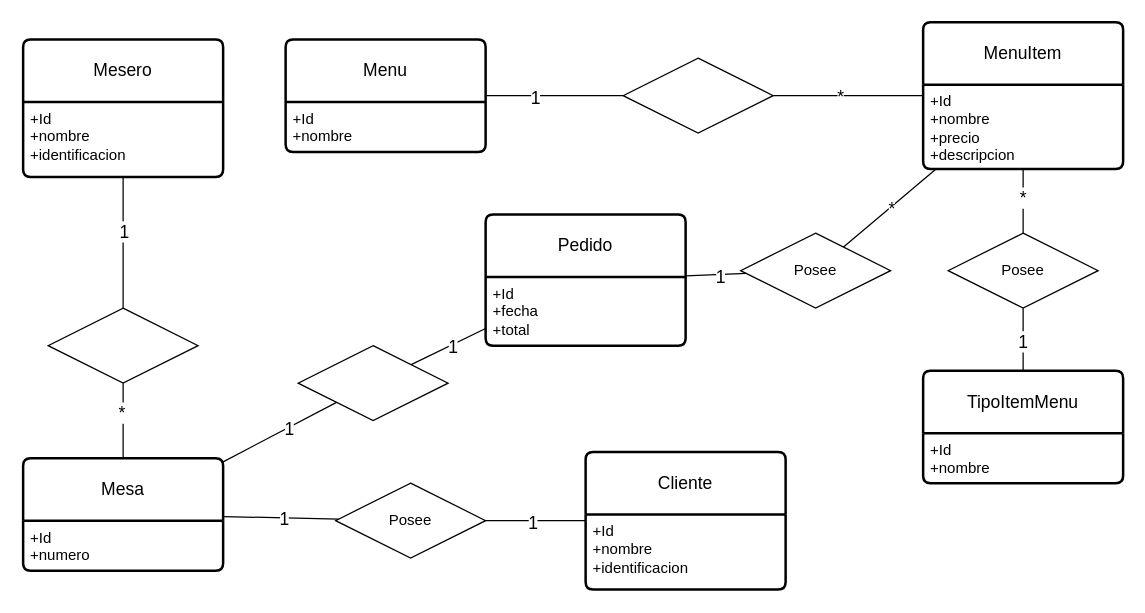
Image size: 1145x613. Some labels were removed from this diagram. The shapes that lost their labels are listed below. From the top down, each one's centre as x and y in pixels, then its label:
At [697,95]: "Pertenece".
At [122,345]: "Atiende".
At [372,382]: "Solicita".
